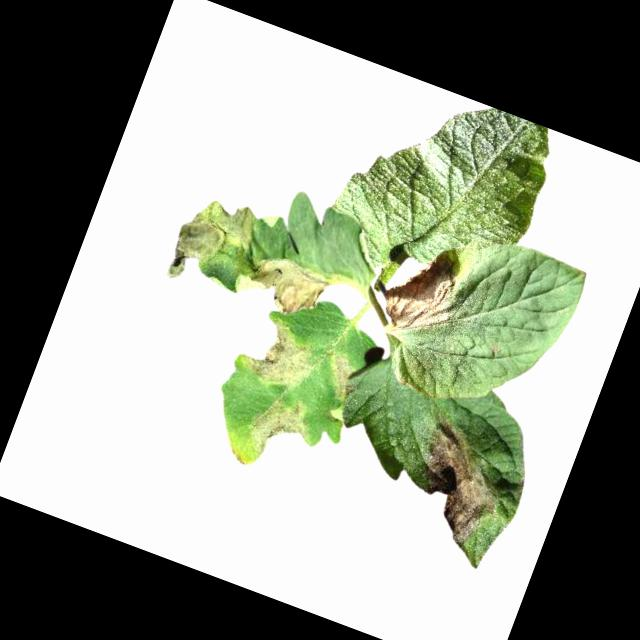Late_blight: (394, 413, 518, 555), (161, 185, 263, 300), (374, 239, 476, 351), (230, 240, 340, 328), (231, 310, 330, 400), (242, 388, 327, 474), (319, 349, 369, 404)
